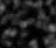four: (25, 20, 30, 27)
seven: (18, 20, 23, 28), (31, 19, 36, 27)
